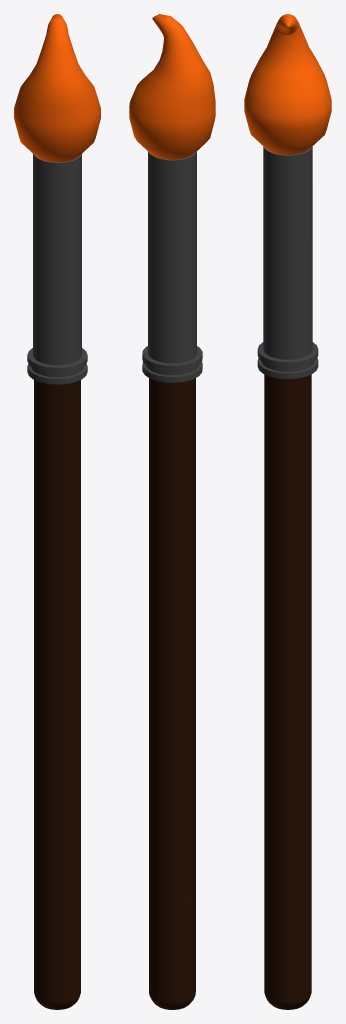
File: sm_paintbrush.fbx
3 views of the same model, side by side, from view 1: azimuth 90°, elevation 25°; view 2: azimuth 150°, elevation 25°; view 3: azimuth 270°, elevation 25° (orthographic).
Visible parts, largest first — view 1: brush_low (×3); view 2: brush_low (×3); view 3: brush_low (×3).
Boxes of the visible parts, x1,y1,x2,y2 form: brush_low (×3): (14,14,100,1009); brush_low (×3): (129,14,215,1009); brush_low (×3): (244,14,331,1009).
Size of the model in its own units: 8.59 by 108 by 8.59.
